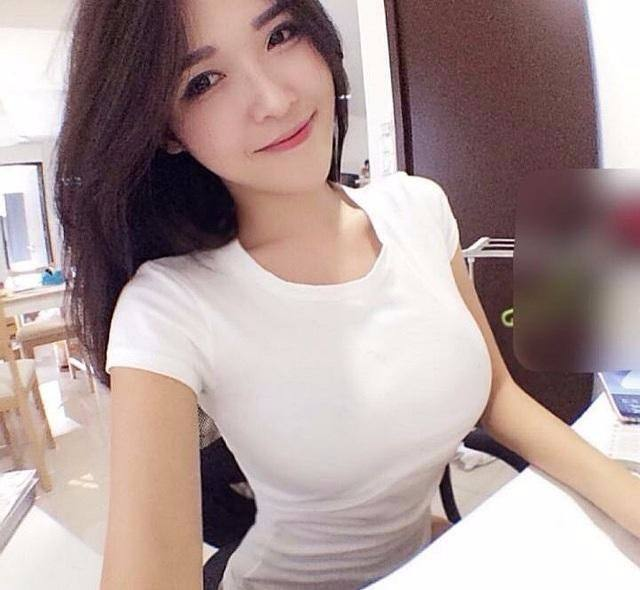person: (31, 16, 565, 474)
